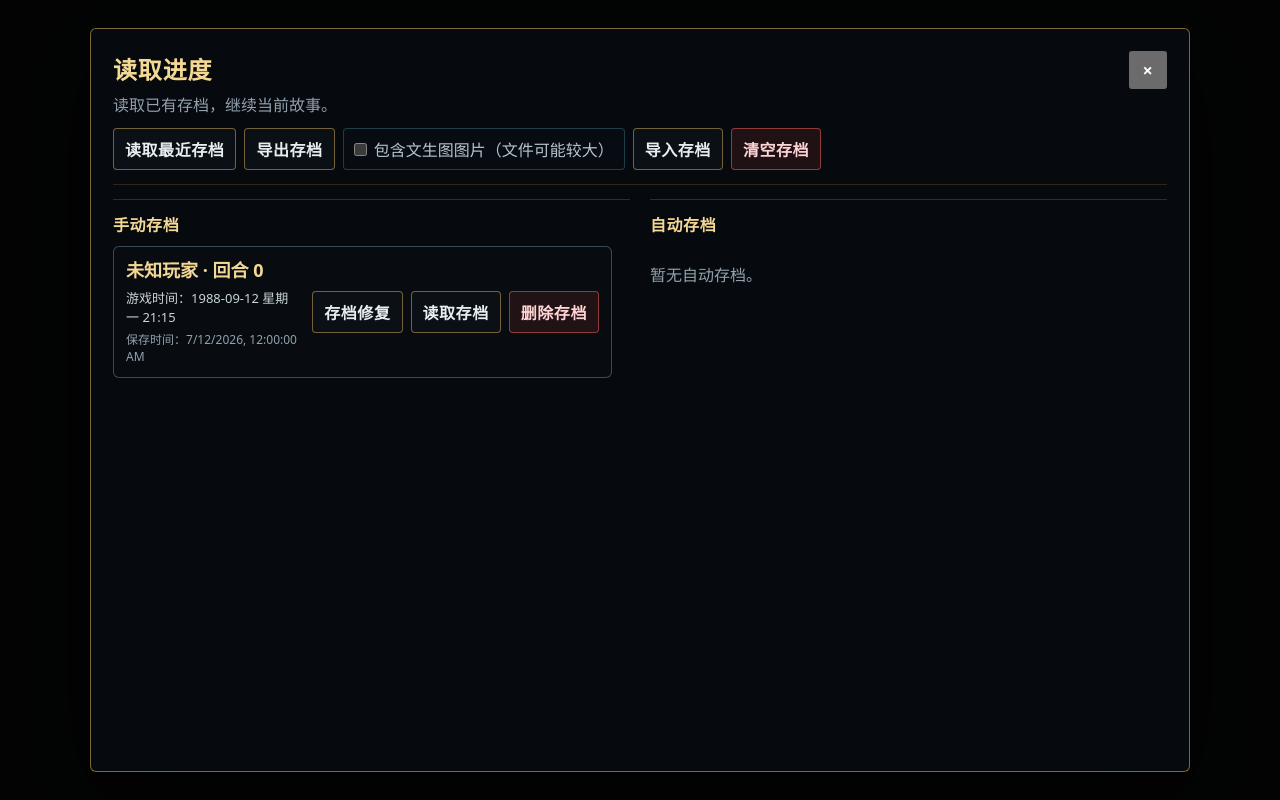
Test: SaveManagerModal import › lets the player explicitly choose whether exported saves include generated images
The width and height of the screenshot is (1280, 800).
What coordinates should you click on to do the following:
click the checkbox labelled "包含文生图图片（文件可能较大）"
I would click on:
 (360, 149)
Its box is [354,142,367,156].
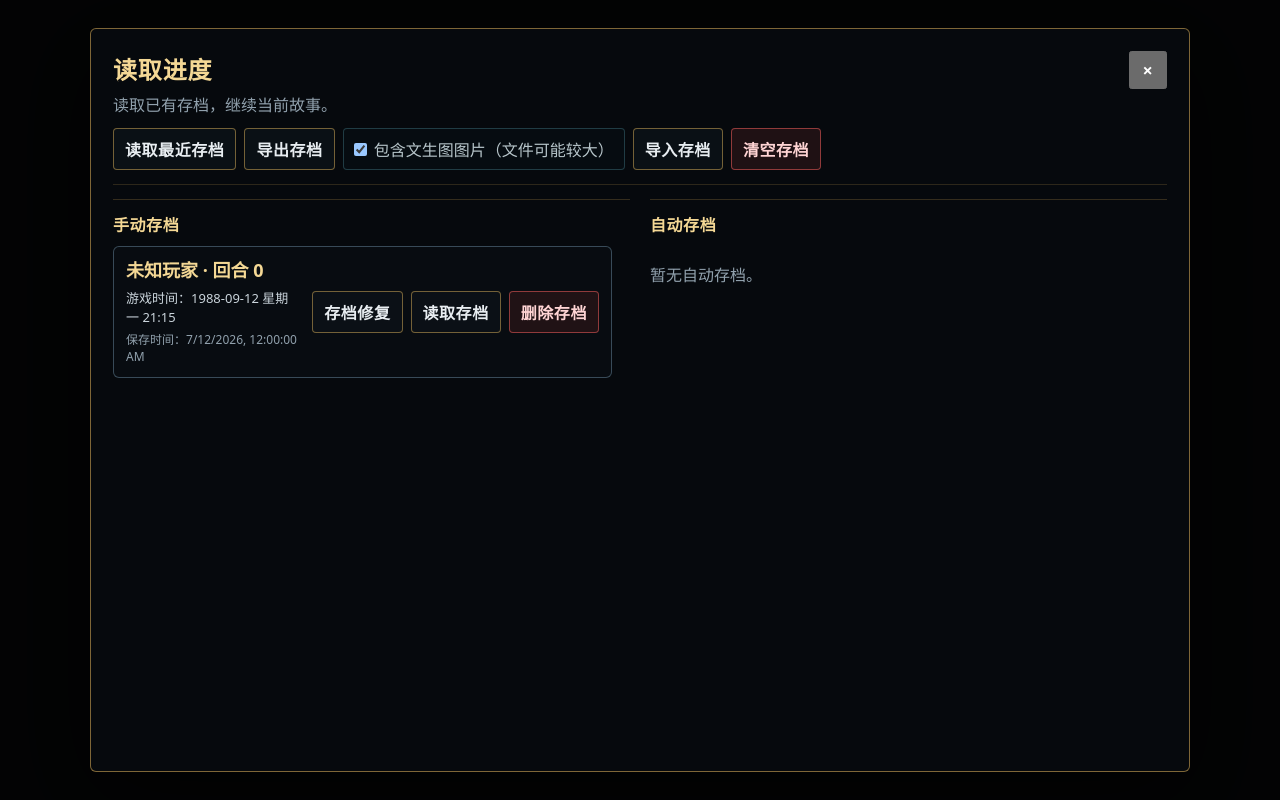
What coordinates should you click on to do the following:
click the button "导出存档"
I would click on:
 (290, 149)
Its box is [244,128,335,170].
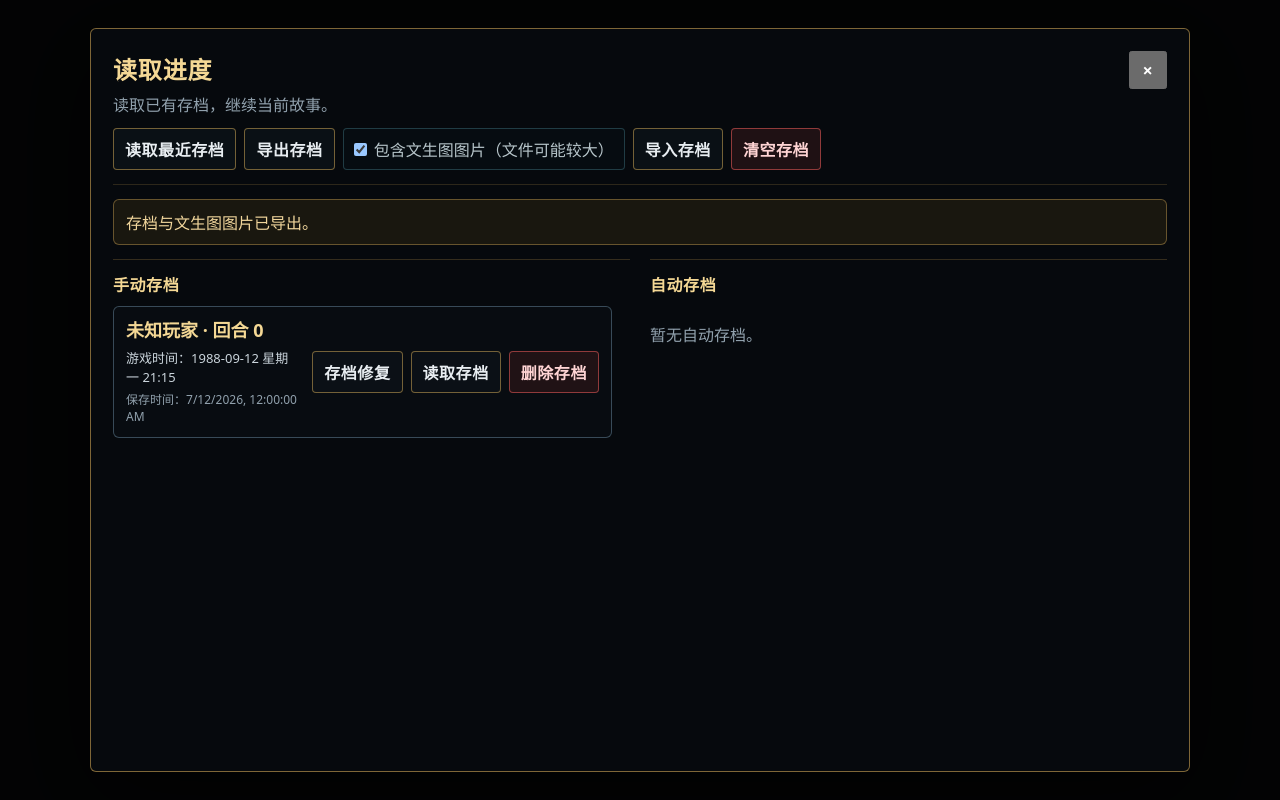
Result: the message shows "存档与文生图图片已导出" at [126,212,318,234]
